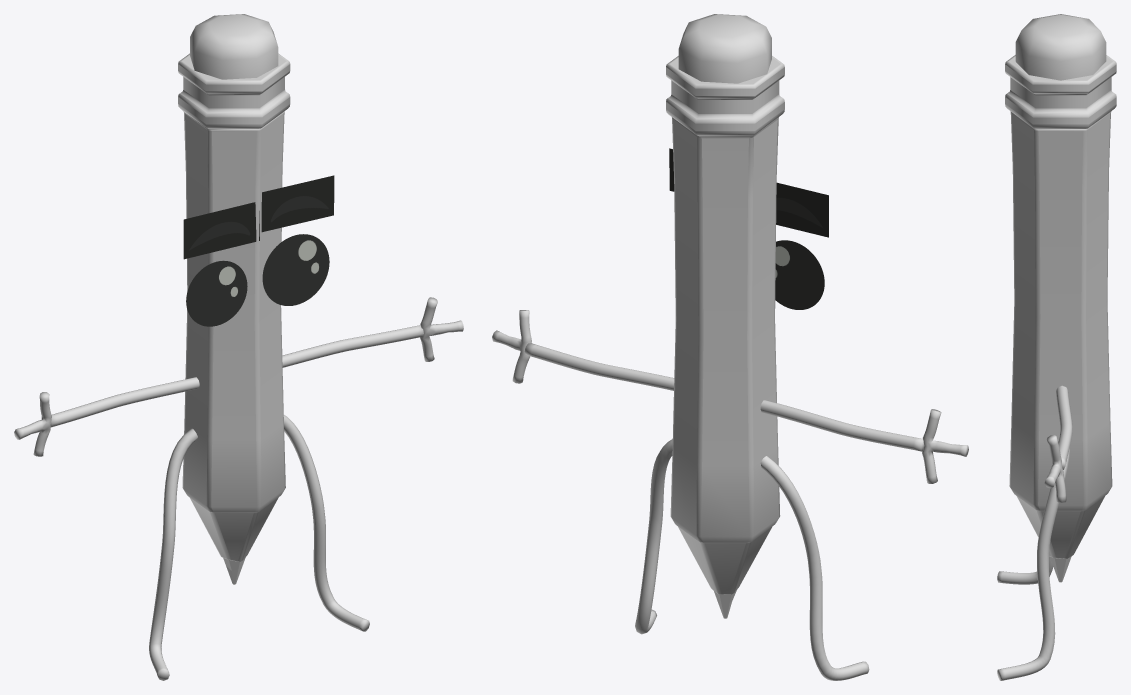
Rendered from Pencil_A.fbx.
3 renders of one model, left to right at view 1: azimuth 30°, elevation 25°; view 2: azimuth 150°, elevation 25°; view 3: azimuth 270°, elevation 25°, orthographic. The views are drawn at different scales.
Visible parts, largest first — view 1: pencil_low, legs_low, Arms_low, eraser_low, eye_left_low, eye_right_low, brow_right_low, brow_left_low; view 2: pencil_low, Arms_low, legs_low, eraser_low, eye_right_low, brow_right_low; view 3: pencil_low, eraser_low, legs_low, Arms_low, lead_low.
Boxes of the visible parts, bbox=[...] form: pencil_low: bbox=[178, 53, 290, 561]; legs_low: bbox=[149, 415, 369, 680]; Arms_low: bbox=[14, 297, 463, 456]; eraser_low: bbox=[190, 14, 278, 79]; eye_left_low: bbox=[262, 234, 329, 305]; eye_right_low: bbox=[186, 260, 247, 326]; brow_right_low: bbox=[183, 202, 259, 259]; brow_left_low: bbox=[261, 175, 334, 232]; pencil_low: bbox=[666, 56, 784, 594]; Arms_low: bbox=[492, 310, 968, 483]; legs_low: bbox=[635, 439, 869, 680]; eraser_low: bbox=[678, 14, 771, 83]; eye_right_low: bbox=[775, 240, 824, 309]; brow_right_low: bbox=[776, 182, 828, 237]; pencil_low: bbox=[1005, 55, 1116, 558]; eraser_low: bbox=[1015, 14, 1106, 80]; legs_low: bbox=[997, 441, 1069, 680]; Arms_low: bbox=[1044, 385, 1072, 502]; lead_low: bbox=[1049, 556, 1071, 582].
Bounding box in the file's own units: 987 × 1286 × 230.
